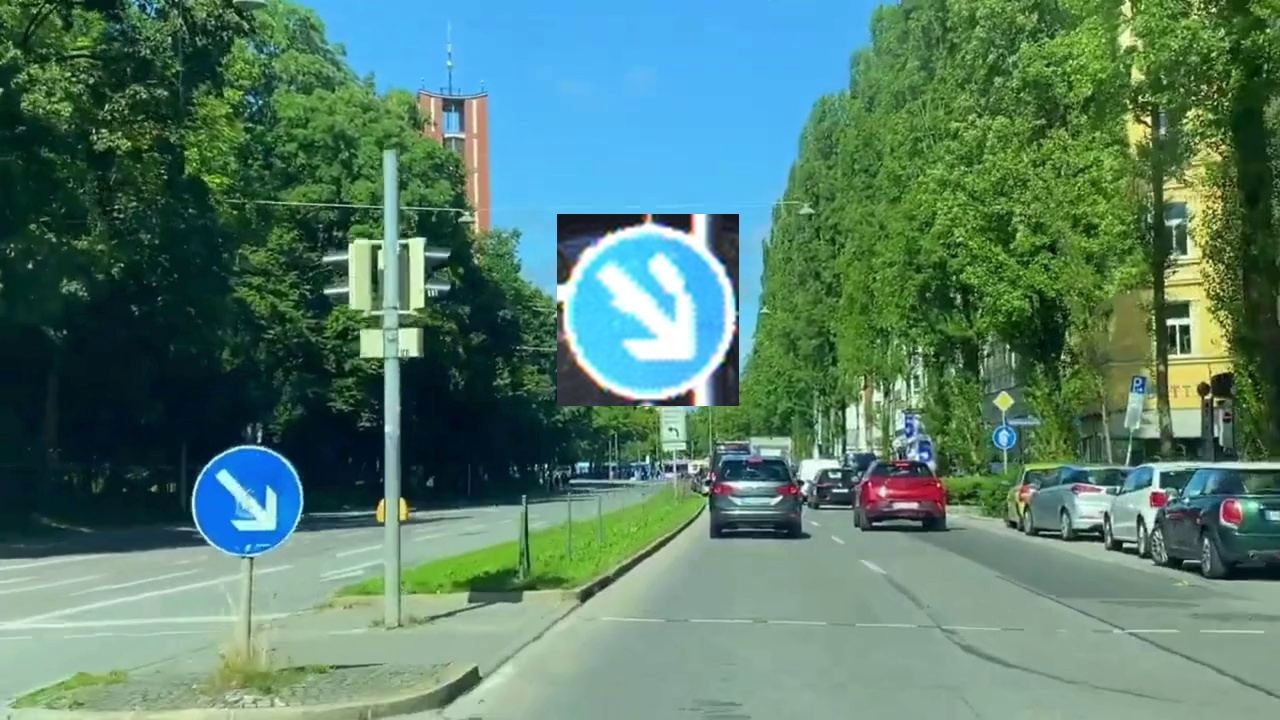Keep right: (557, 214, 739, 406)
